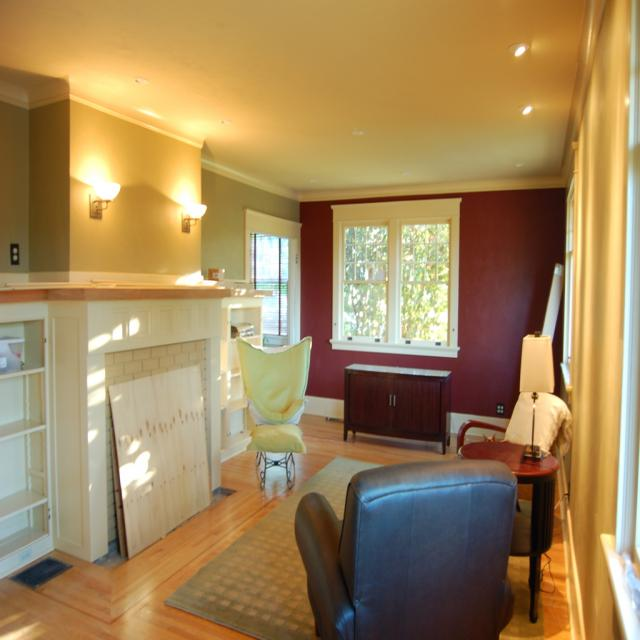chair: (294, 457, 518, 636), (235, 334, 313, 492)
desk: (328, 365, 466, 452)
